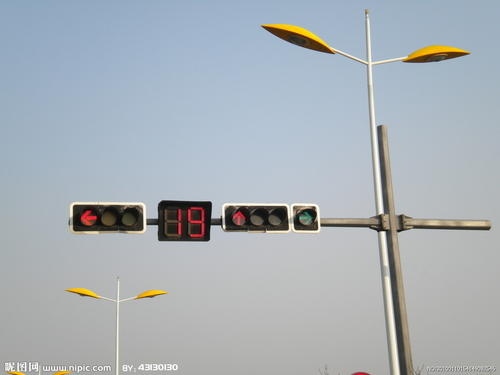red: (66, 200, 148, 235), (222, 201, 293, 235)
